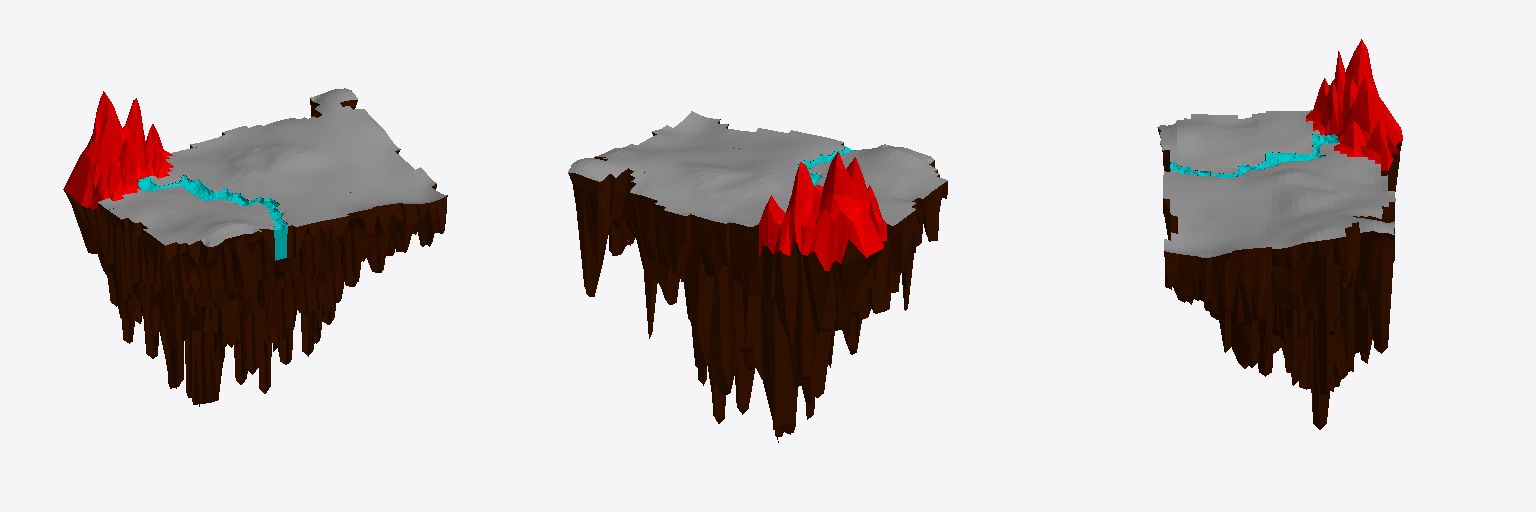
Rendered from ile_hiver02.obj.
3 renders of one model, left to right at view 1: azimuth 30°, elevation 25°; view 2: azimuth 150°, elevation 25°; view 3: azimuth 270°, elevation 25°, orthographic.
Visible parts, largest first — view 1: Box2, Montagne; view 2: Box2, Montagne; view 3: Box2, Montagne.
Boxes of the visible parts, box(x1,y1,x2,y2) form: Box2: box(63, 88, 447, 406); Montagne: box(64, 91, 173, 211); Box2: box(568, 111, 947, 442); Montagne: box(755, 151, 886, 270); Box2: box(1157, 110, 1402, 429); Montagne: box(1306, 39, 1402, 170).
Bounding box in the file's own units: 1945 × 2079 × 1422.